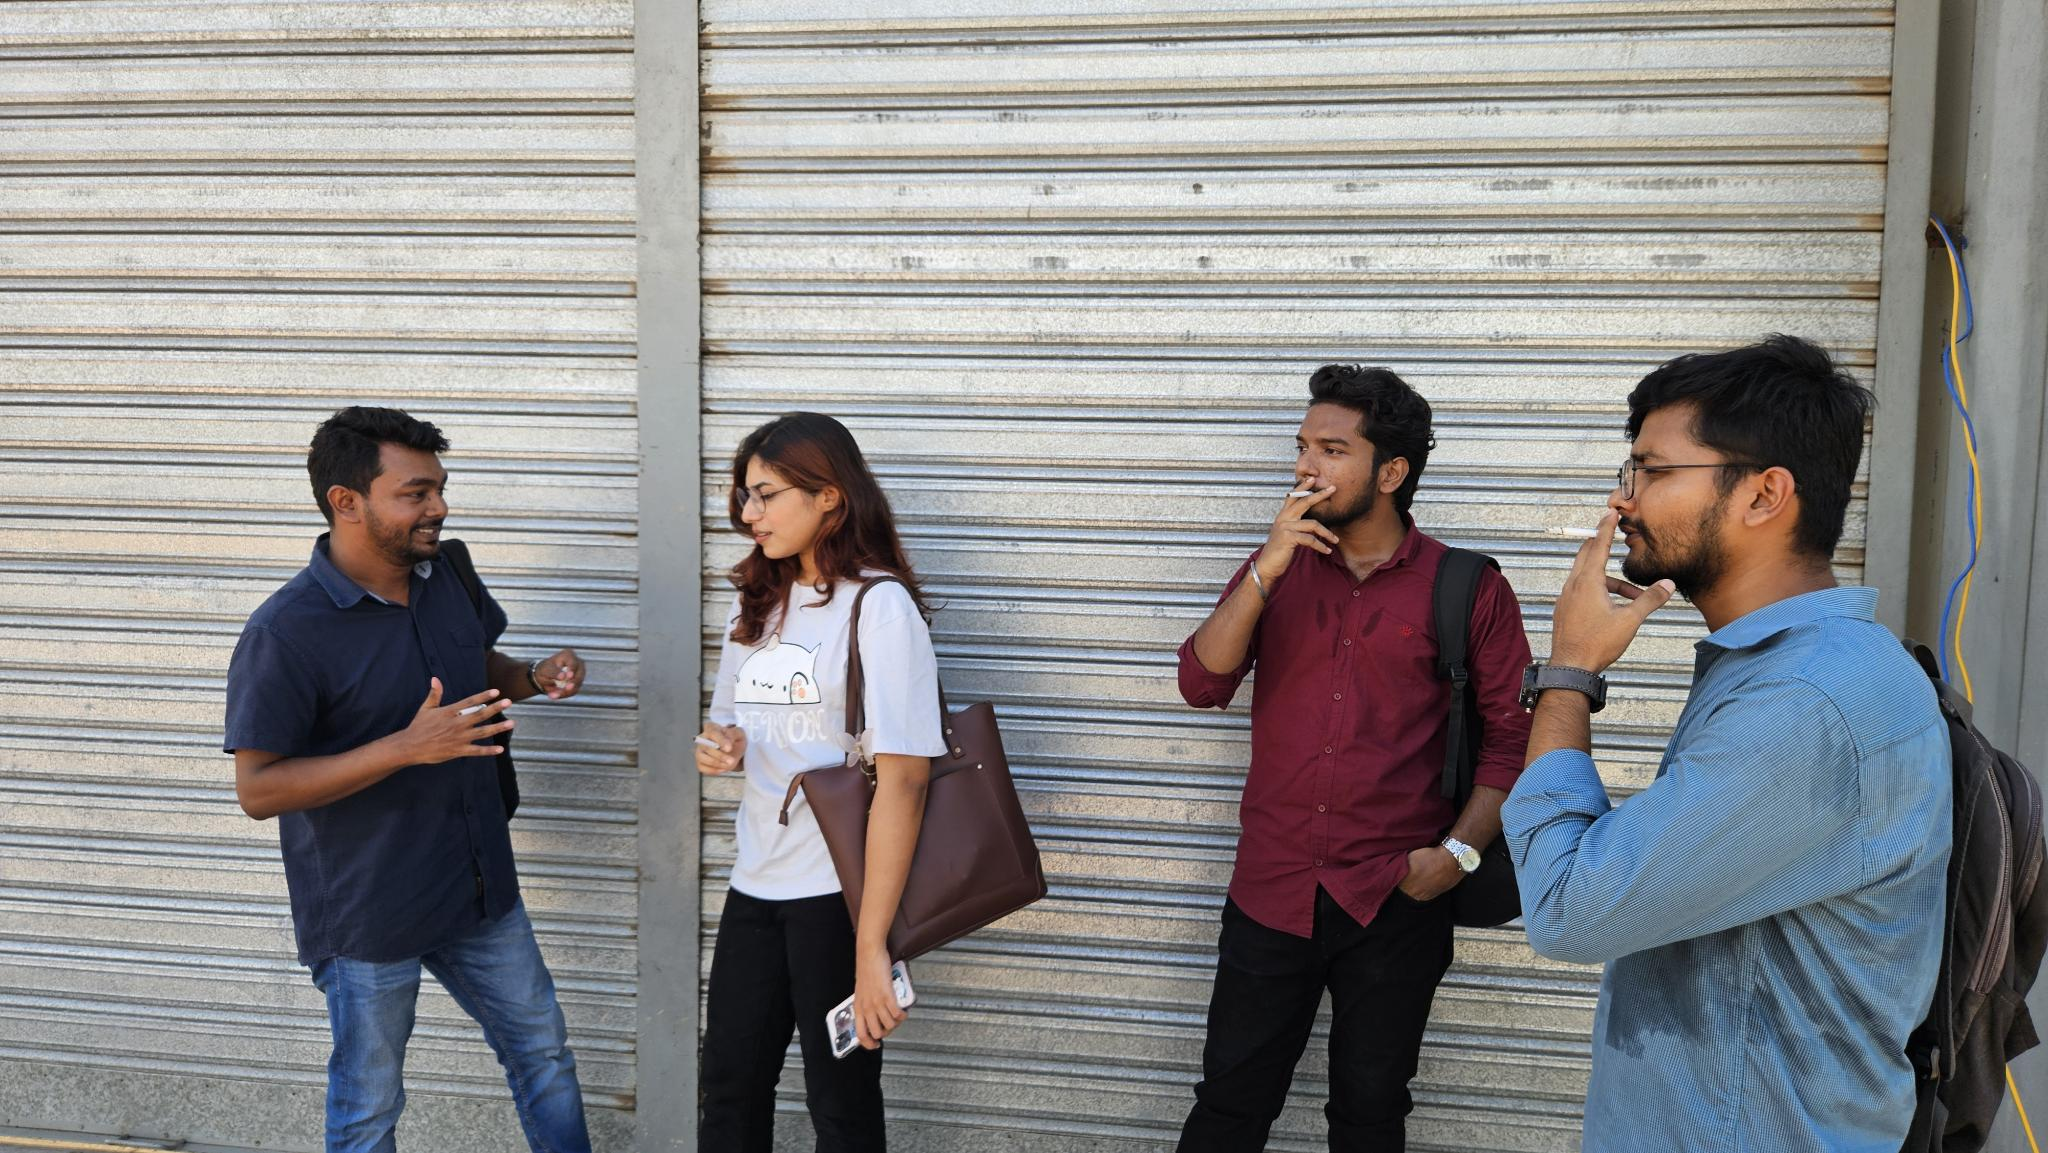cigarette: (1542, 522, 1630, 543), (454, 702, 488, 719), (692, 734, 723, 751), (1283, 489, 1315, 501)
smoker: (1504, 335, 2048, 1153), (1176, 366, 1539, 1153), (224, 409, 591, 1153), (693, 413, 1047, 1153)
